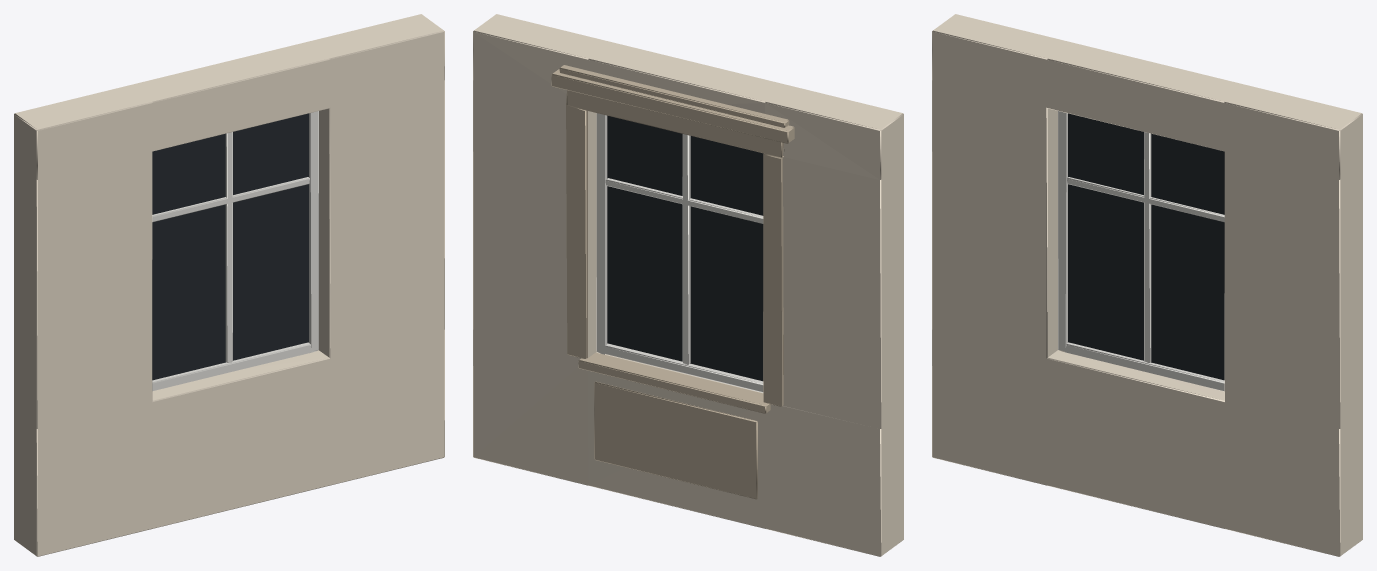
File: SM_VB_FacA_Window.fbx
3 renders of one model, left to right at view 1: azimuth 30°, elevation 25°; view 2: azimuth 150°, elevation 25°; view 3: azimuth 330°, elevation 25°, orthographic.
Visible parts, largest first — view 1: SM_VB_FacA_Window; view 2: SM_VB_FacA_Window; view 3: SM_VB_FacA_Window.
Boxes of the visible parts, x1=… form: SM_VB_FacA_Window: x1=14, y1=14, x2=444, y2=556; SM_VB_FacA_Window: x1=473, y1=14, x2=903, y2=556; SM_VB_FacA_Window: x1=932, y1=14, x2=1362, y2=556.
Bounding box in the file's own units: 3 × 3 × 0.39.
